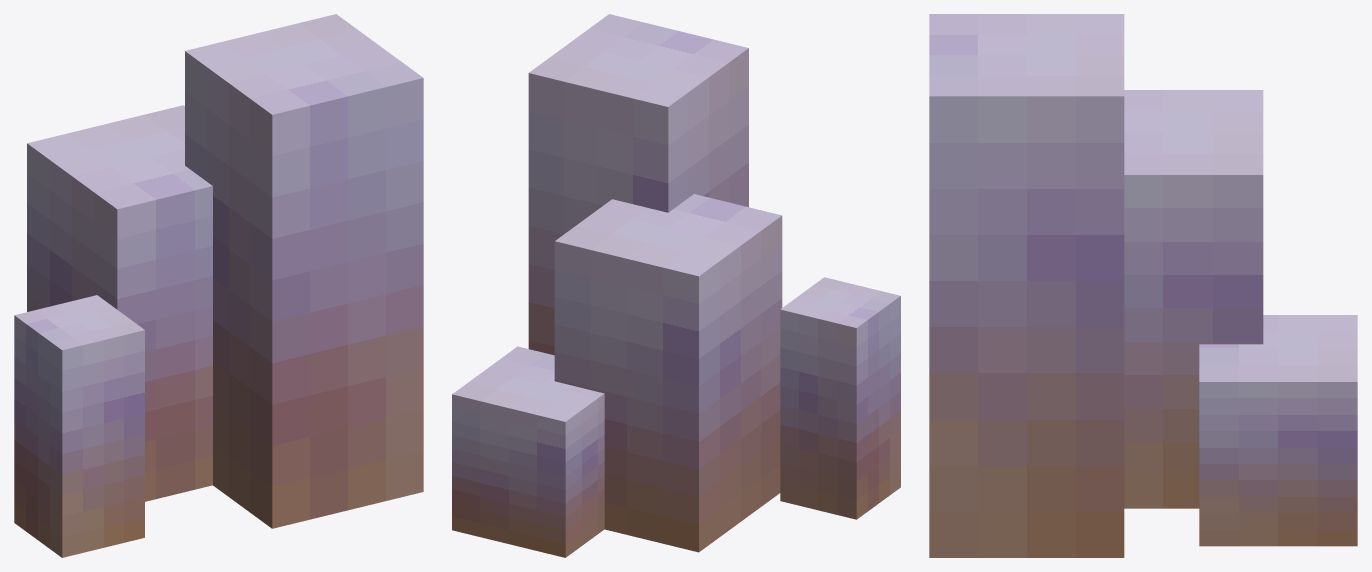
Rendered from sperrylite_crystal_four.obj.
The picture shows the model from 3 angles, left to right: view 1: azimuth 30°, elevation 25°; view 2: azimuth 150°, elevation 25°; view 3: azimuth 270°, elevation 25°; orthographic projection. The views are drawn at different scales.
Visible parts, largest first — view 1: Crystal5_Cube.008; view 2: Crystal5_Cube.008; view 3: Crystal5_Cube.008.
Part boxes in pixels (<box>): Crystal5_Cube.008: <box>14,14,423,557</box>; Crystal5_Cube.008: <box>452,14,900,557</box>; Crystal5_Cube.008: <box>929,14,1357,557</box>.
Bounding box in the file's own units: 0.4231 × 0.494 × 0.4151.
